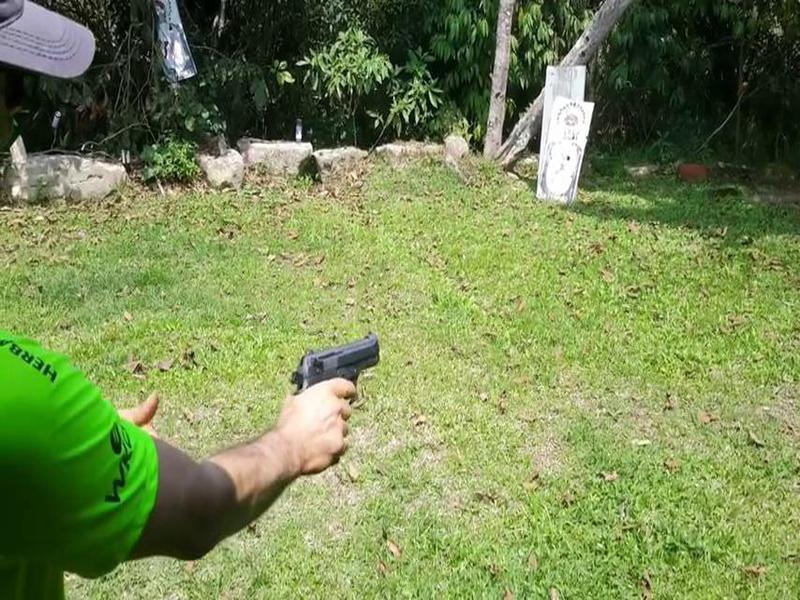Pistola: (278, 328, 388, 404)
